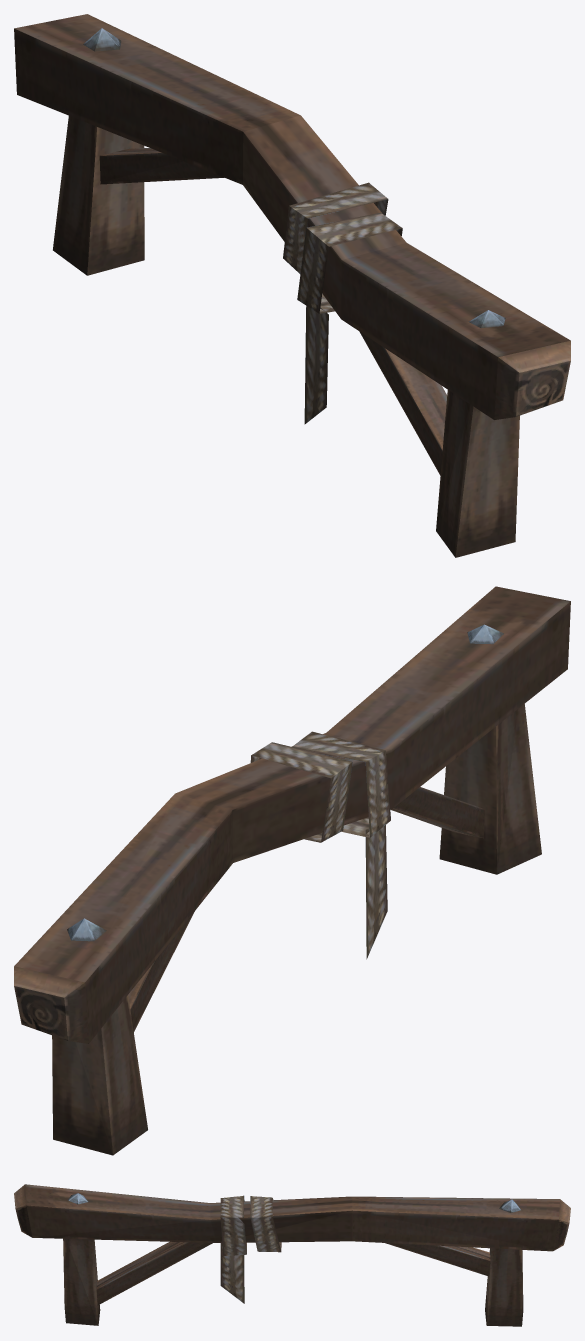
Rendered from mine_railing_large02.fbx.
3 renders of one model, top to bottom at view 1: azimuth 30°, elevation 25°; view 2: azimuth 150°, elevation 25°; view 3: azimuth 270°, elevation 25°, orthographic. The views are drawn at different scales.
Parts seen in each view (by area): view 1: obj1.012; view 2: obj1.012; view 3: obj1.012.
Part boxes in pixels (left/top/right/bottom): obj1.012: left=14, top=14, right=570, bottom=557; obj1.012: left=14, top=586, right=570, bottom=1155; obj1.012: left=14, top=1184, right=570, bottom=1326.
Size of the model in its own units: 0.7599 by 1.55 by 6.21.
